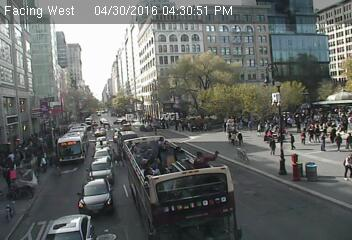neg: (152, 135, 180, 173), (190, 147, 211, 176), (136, 157, 153, 180), (127, 135, 140, 153)
pos: (336, 152, 351, 182), (285, 129, 299, 149), (316, 134, 329, 150), (267, 136, 279, 152), (332, 134, 344, 150), (342, 131, 351, 148), (299, 131, 309, 144), (235, 131, 245, 144), (229, 130, 238, 142)
